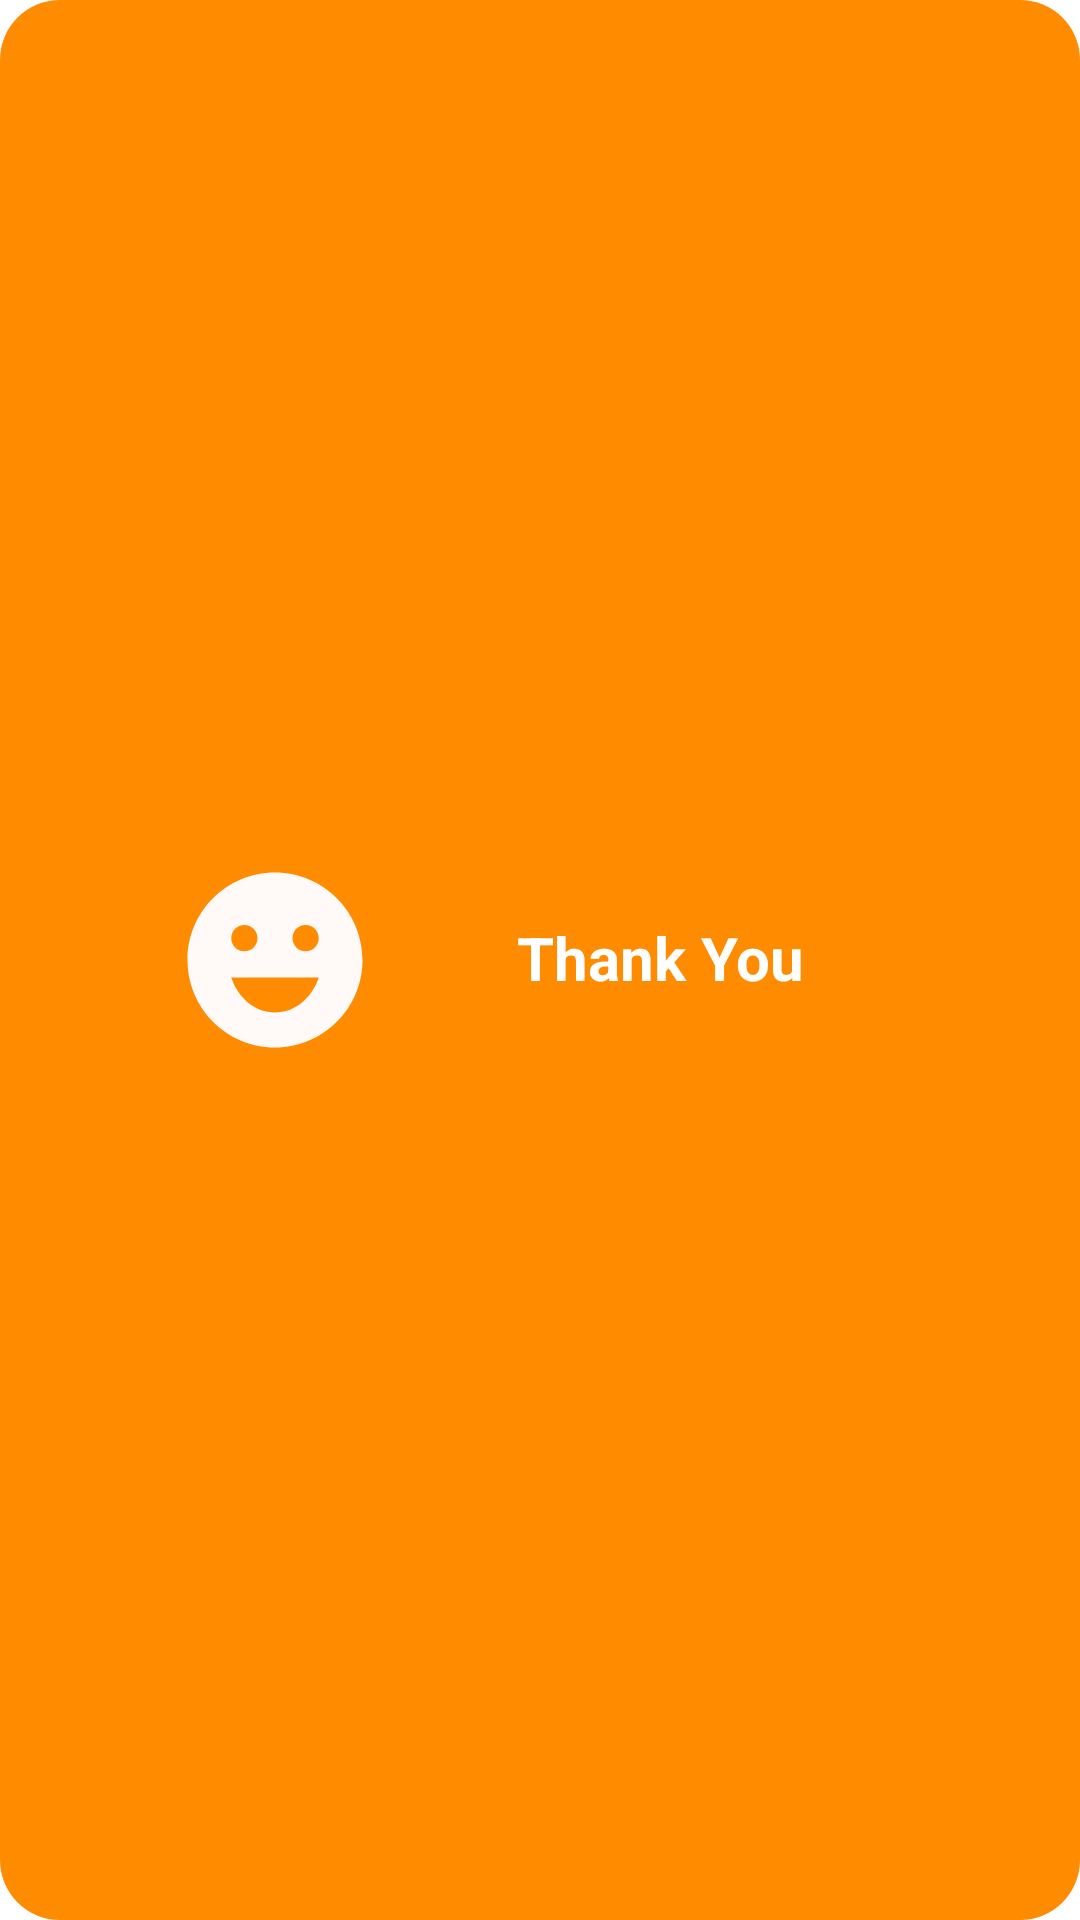

Where icons sit on this 1080x1920 app screen, as (x1, y1, x2, y2):
emoji emotions: (187, 872, 363, 1048)
